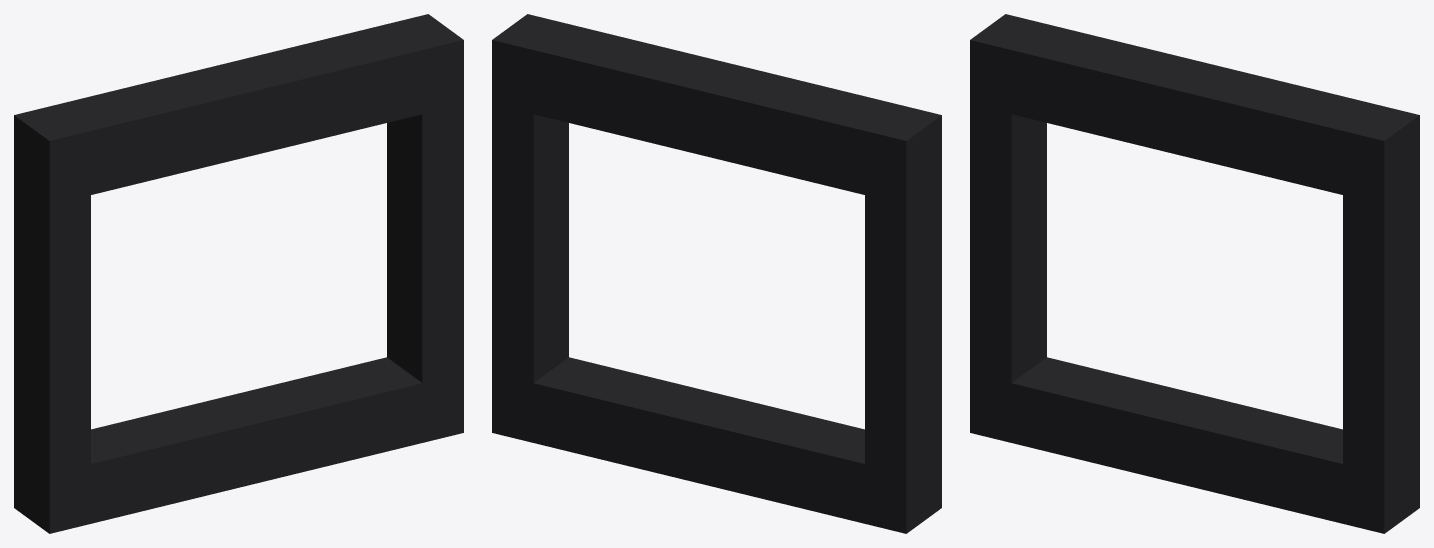
File: WINDOW FINISHED.fbx
3 renders of one model, left to right at view 1: azimuth 30°, elevation 25°; view 2: azimuth 150°, elevation 25°; view 3: azimuth 330°, elevation 25°, orthographic.
Visible parts, largest first — view 1: pCube1, pCube2; view 2: pCube1, pCube2; view 3: pCube1, pCube2.
Boxes of the visible parts, bbox=[...] form: pCube1: bbox=[14, 14, 463, 359]; pCube2: bbox=[14, 203, 463, 533]; pCube1: bbox=[492, 14, 941, 359]; pCube2: bbox=[492, 202, 941, 533]; pCube1: bbox=[970, 14, 1419, 359]; pCube2: bbox=[970, 207, 1419, 533].
Size of the model in its own units: 0.7854 by 0.7117 by 0.1164.
